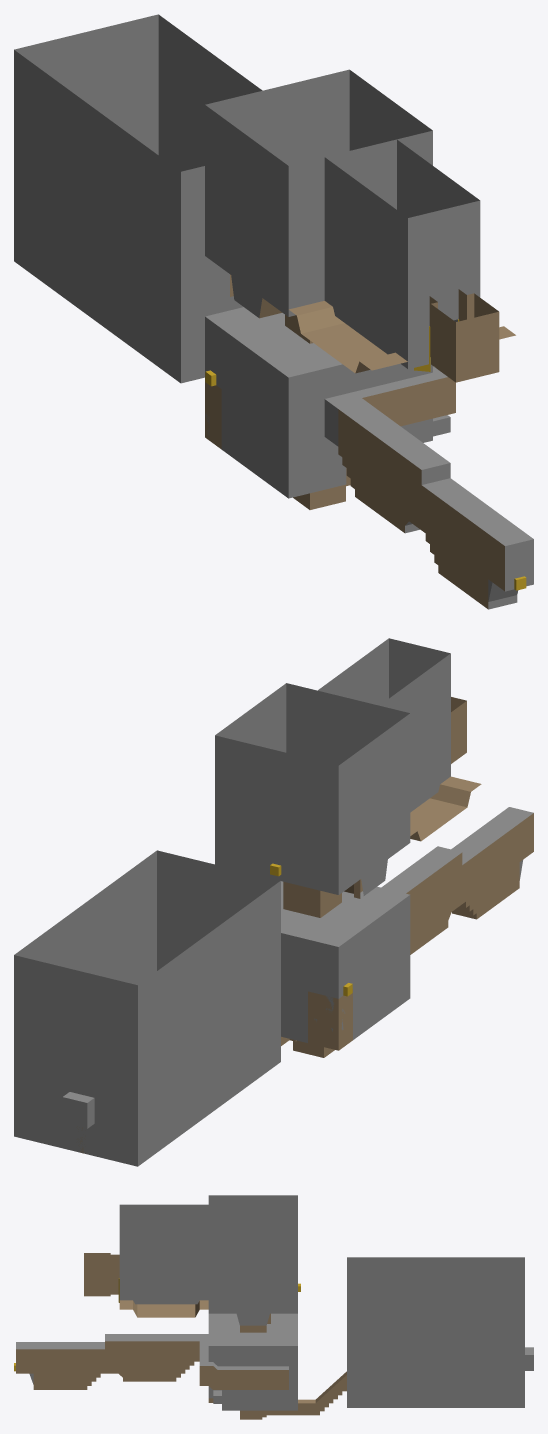
File: WaterTemple.fbx
3 views of the same model, one above another, from view 1: azimuth 30°, elevation 25°; view 2: azimuth 150°, elevation 25°; view 3: azimuth 270°, elevation 25° (orthographic). The views are drawn at different scales.
Parts seen in each view (by area): view 1: WaterTemple; view 2: WaterTemple; view 3: WaterTemple.
Boxes of the visible parts, left/top/right/bottom form: WaterTemple: left=14, top=14, right=533, bottom=609; WaterTemple: left=14, top=638, right=533, bottom=1166; WaterTemple: left=14, top=1195, right=533, bottom=1419.
Bounding box in the file's own units: 2370 × 5000 × 11670.
